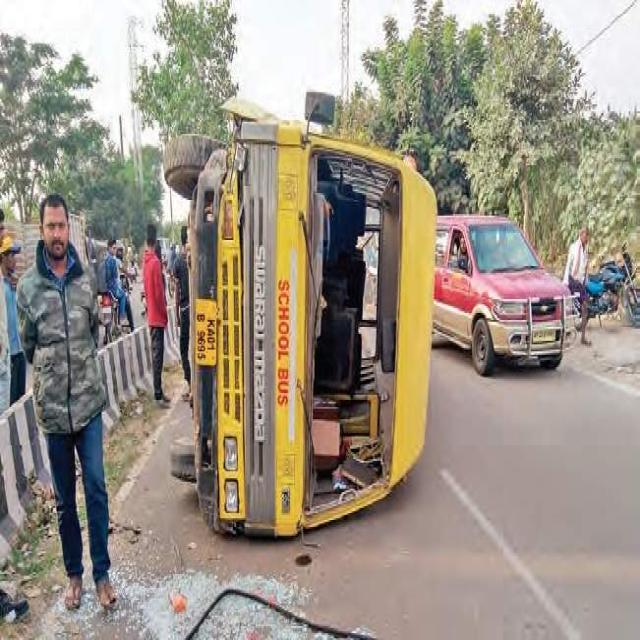accident: (165, 93, 435, 534)
car: (434, 217, 584, 375)
